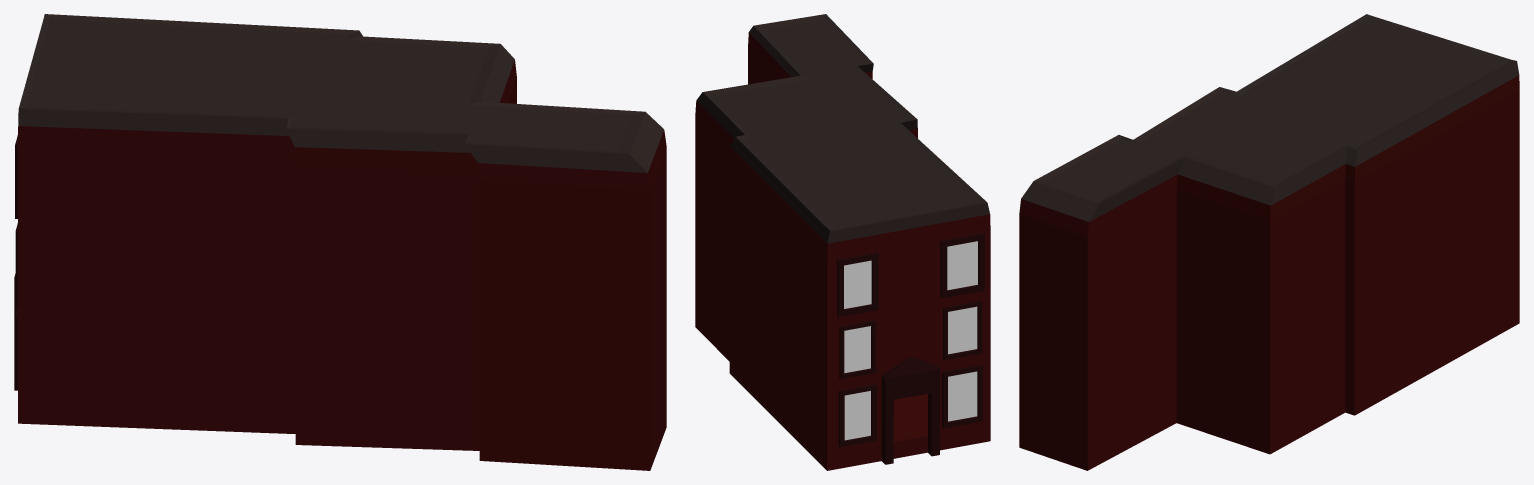
The model's file is Brown Bear.fbx.
3 renders of one model, left to right at view 1: azimuth 30°, elevation 25°; view 2: azimuth 150°, elevation 25°; view 3: azimuth 270°, elevation 25°, orthographic. The views are drawn at different scales.
Visible parts, largest first — view 1: Brown Bear; view 2: Brown Bear; view 3: Brown Bear.
Part boxes in pixels (bbox=[...]): Brown Bear: bbox=[14, 14, 666, 470]; Brown Bear: bbox=[695, 14, 990, 470]; Brown Bear: bbox=[1019, 14, 1519, 470].
Size of the model in its own units: 2462 by 1528 by 2648.
